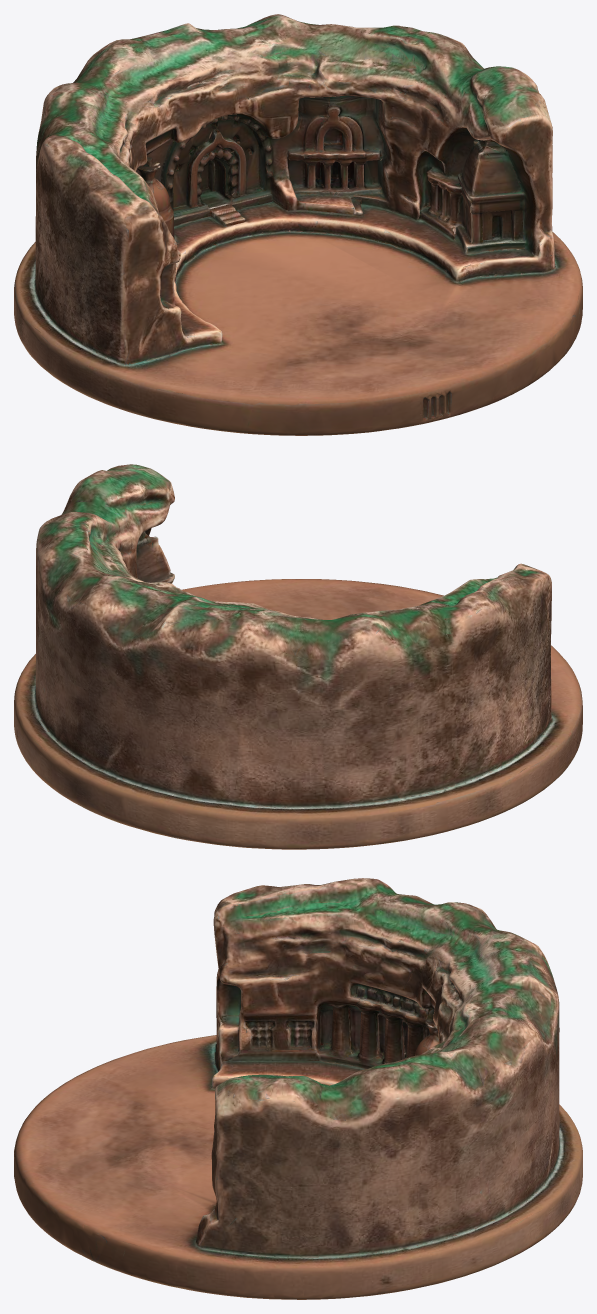
Rendered from ajanta_caves_meshy.glb.
The picture shows the model from 3 angles, top to bottom: view 1: azimuth 30°, elevation 25°; view 2: azimuth 150°, elevation 25°; view 3: azimuth 270°, elevation 25°; orthographic projection.
Parts seen in each view (by area): view 1: Mesh_0; view 2: Mesh_0; view 3: Mesh_0.
Boxes of the visible parts, box(x1,y1,x2,y2) form: Mesh_0: box(14, 14, 582, 435); Mesh_0: box(14, 464, 582, 849); Mesh_0: box(14, 878, 582, 1299).
Bounding box in the file's own units: 1.91 × 0.7797 × 1.91.
Materials: 1 (1 with a texture image).
